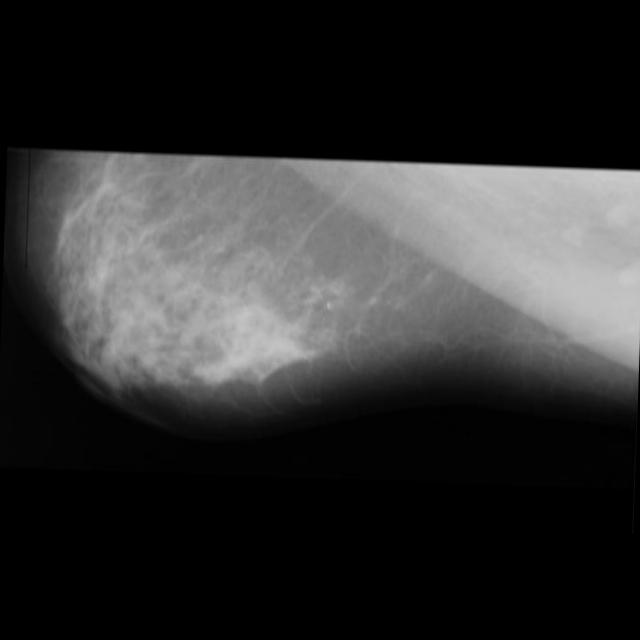CALC: (286, 269, 348, 331)
